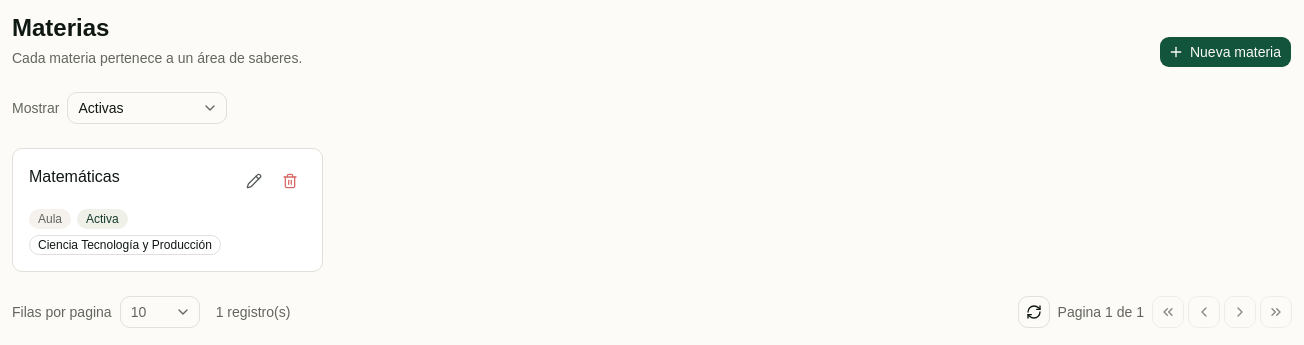
Test: SubjectsPage status filter › shows the inactive subjects with their badge when asked
Click the dropdown named "Estado" at (148, 108), box [68,92,228,124]
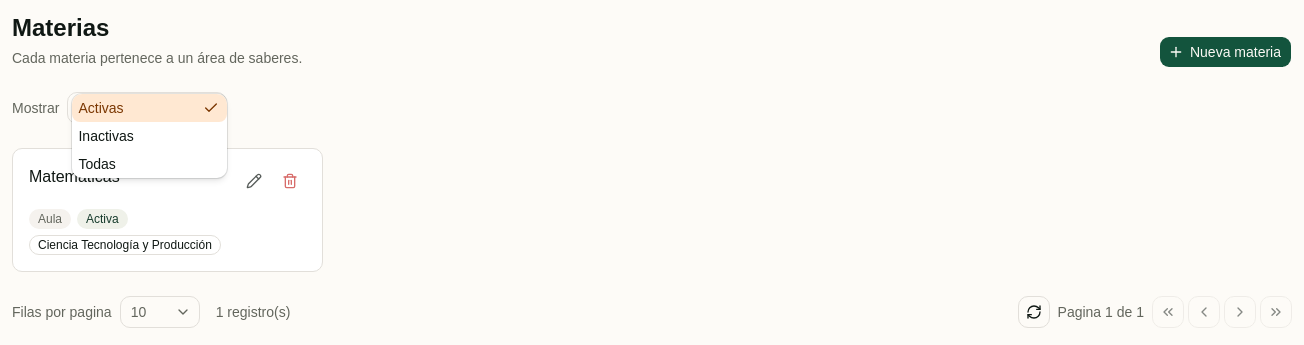
Click the option "Inactivas" at (106, 136), box [78,128,134,144]
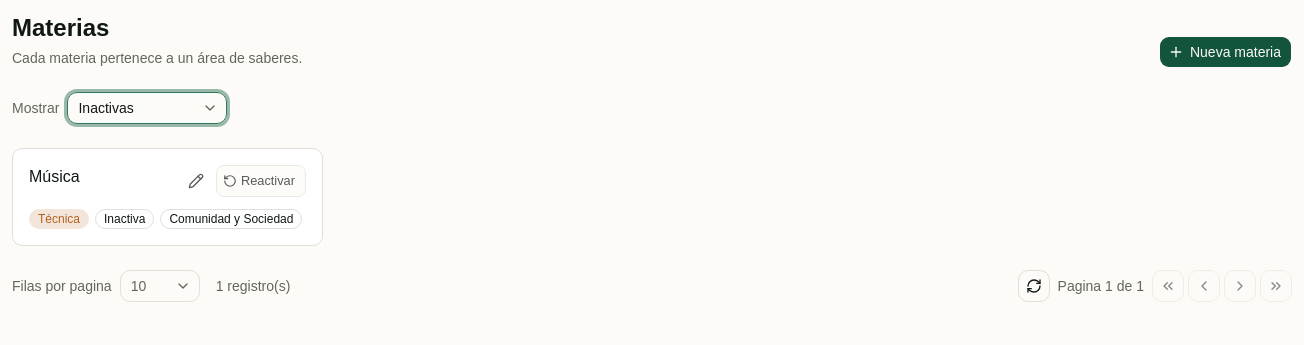
Check: the icon "Inactiva" is shown, box [95,209,154,229]
